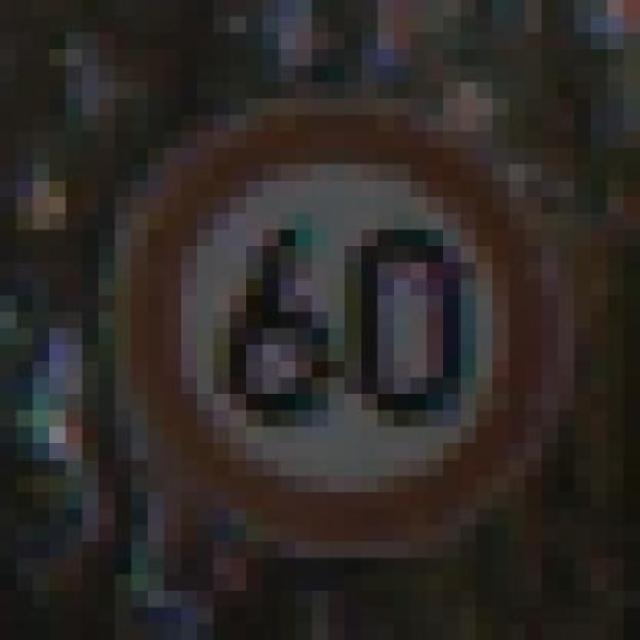forb_speed_over_60: (120, 109, 548, 543)
